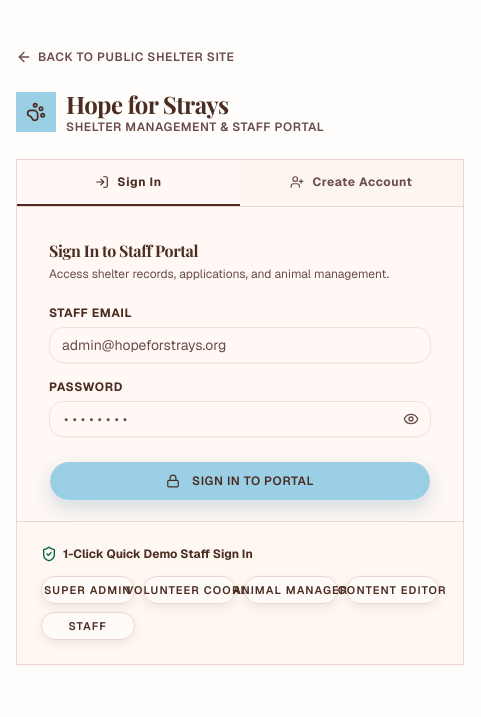
/admin/login enters the console by a document load, never a push to one section › not after a refused sign-in
Type "new.staff@hopeforstrays.org" into the field with id "login-email".
click(240, 345); type("new.staff@hopeforstrays.org")  # box top-left (49, 327), bottom-right (431, 363)
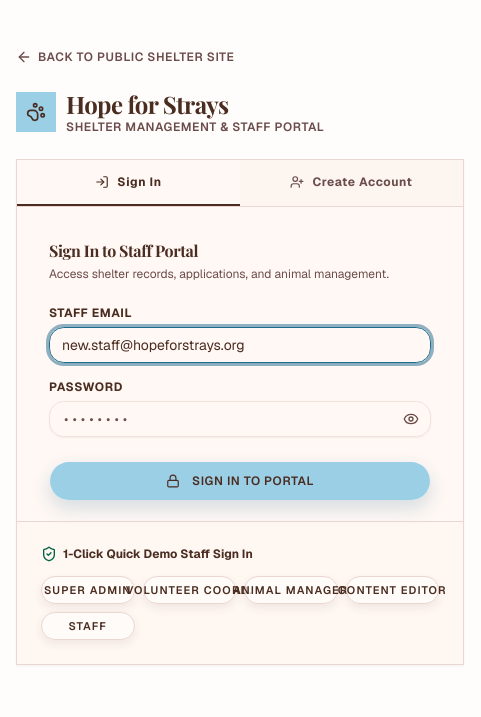
Type "a-long-enough-password" into the password field with id "login-password".
click(240, 419); type("a-long-enough-password")  # box top-left (49, 401), bottom-right (431, 437)
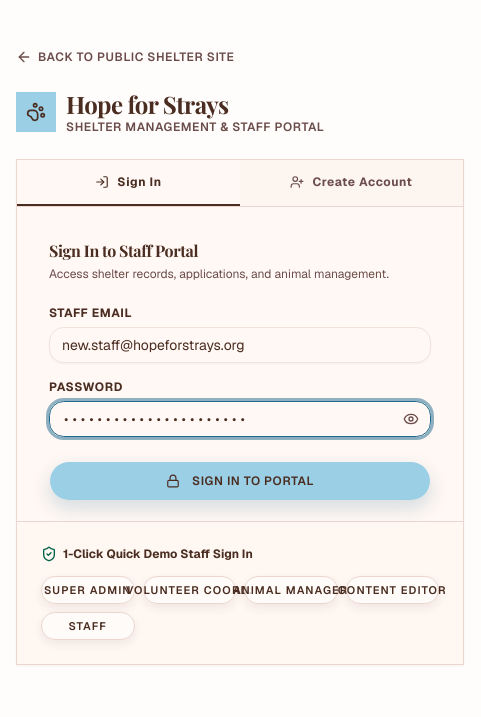
Click the button "Sign In to Portal".
click(240, 481)  # box top-left (49, 461), bottom-right (431, 501)
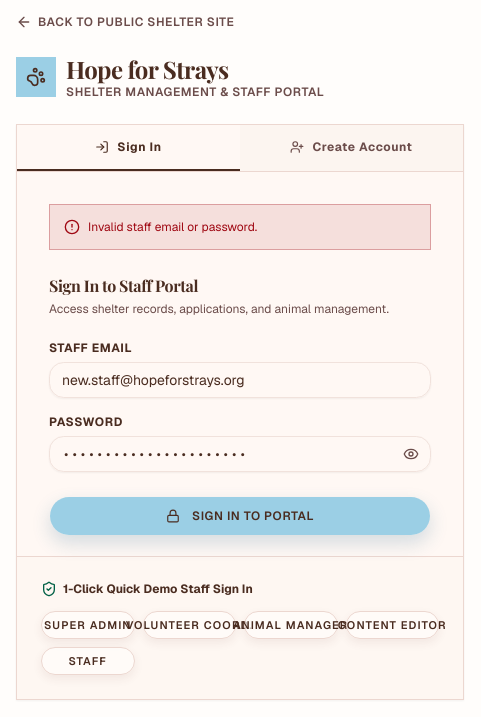
Now the text "Invalid staff email or password." is shown, box top-left (88, 219), bottom-right (257, 235)
